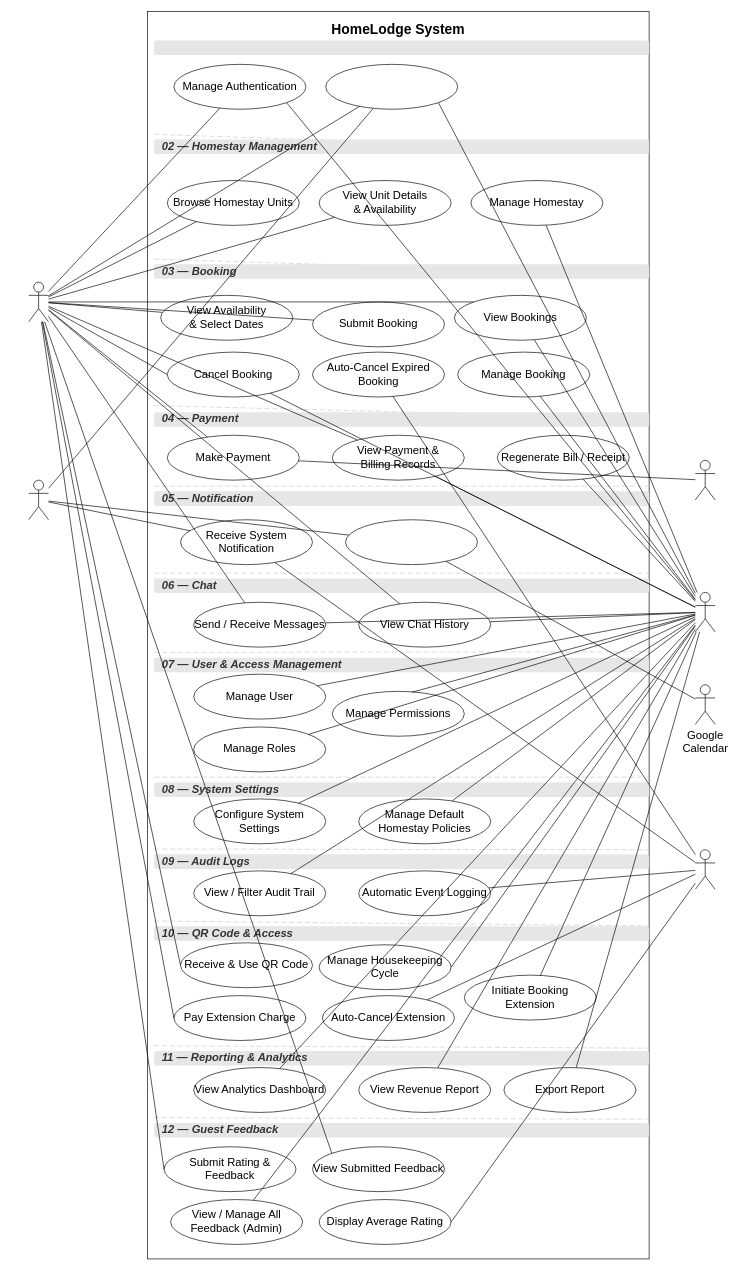
This 739x1271 diagram has some shape labels left out. The centre of each missing label's shape, as x and y in pixels:
"01 — Authentication" belongs at point 401,47.
"Admin" belongs at point 705,612.
"Google Calendar Integration" belongs at point 411,542.
"Guest" belongs at point 38,301.
"Manage Profile" belongs at point 391,86.
"Payment Gateway" belongs at point 705,480.
"Registered User" belongs at point 38,499.
"System" belongs at point 705,869.
